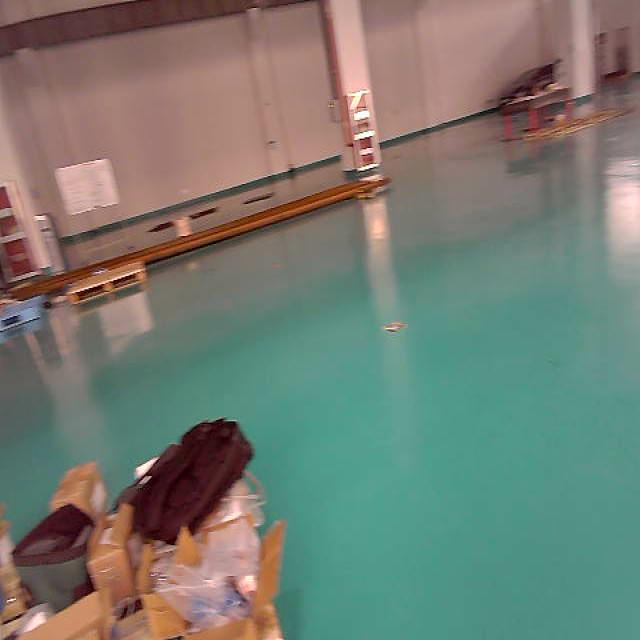euro: (62, 249, 149, 299)
